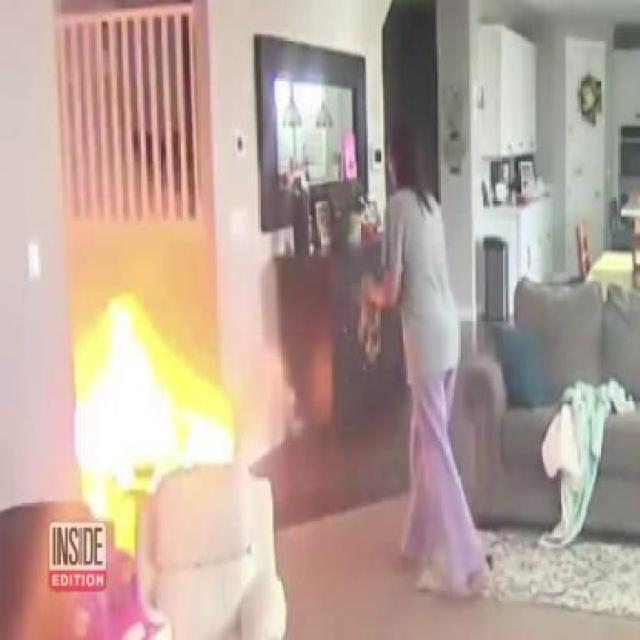fire: (81, 368, 212, 470)
smoke: (74, 196, 214, 292), (240, 343, 314, 442)
